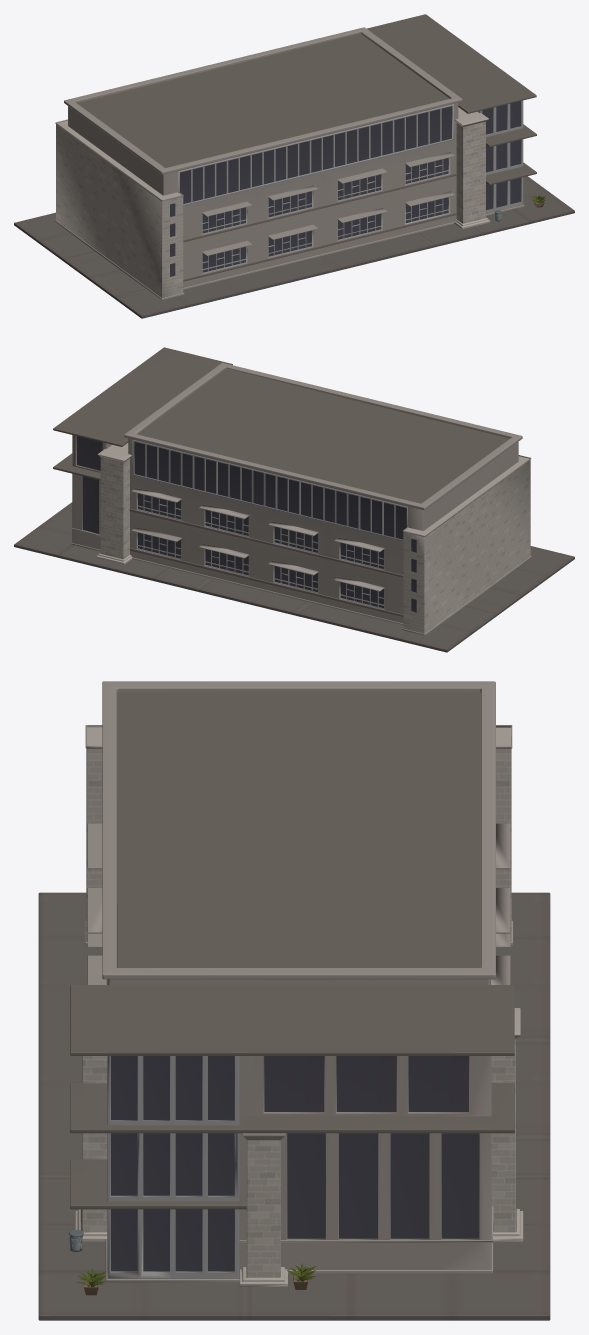
The model's file is office-building.glb.
3 renders of one model, top to bottom at view 1: azimuth 30°, elevation 25°; view 2: azimuth 150°, elevation 25°; view 3: azimuth 270°, elevation 25°, orthographic. The views are drawn at different scales.
Parts seen in each view (by area): view 1: office_building.1; view 2: office_building.1; view 3: office_building.1.
Part boxes in pixels (<box>): office_building.1: <box>14,14,574,318</box>; office_building.1: <box>14,347,574,652</box>; office_building.1: <box>38,681,550,1320</box>.
Size of the model in its own units: 8.85 by 2.46 by 4.53.
1 material, 1 textured.
